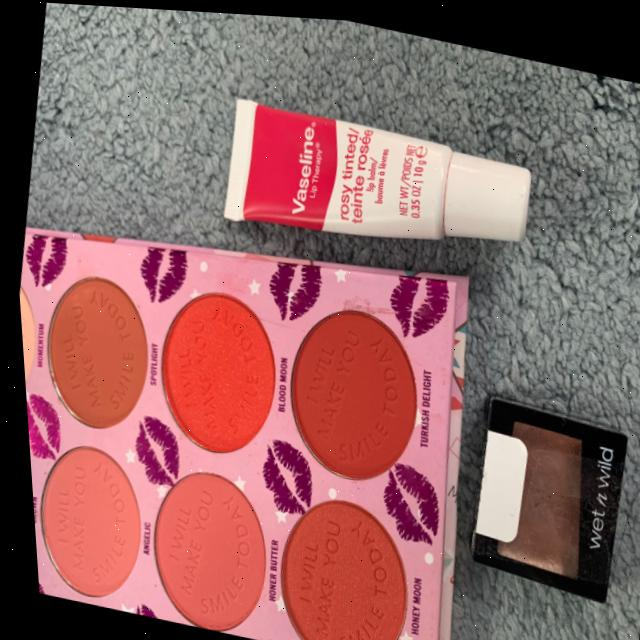Tint: (169, 25, 568, 302)
eye shade: (11, 212, 479, 640)
highlighter: (443, 375, 640, 607)
